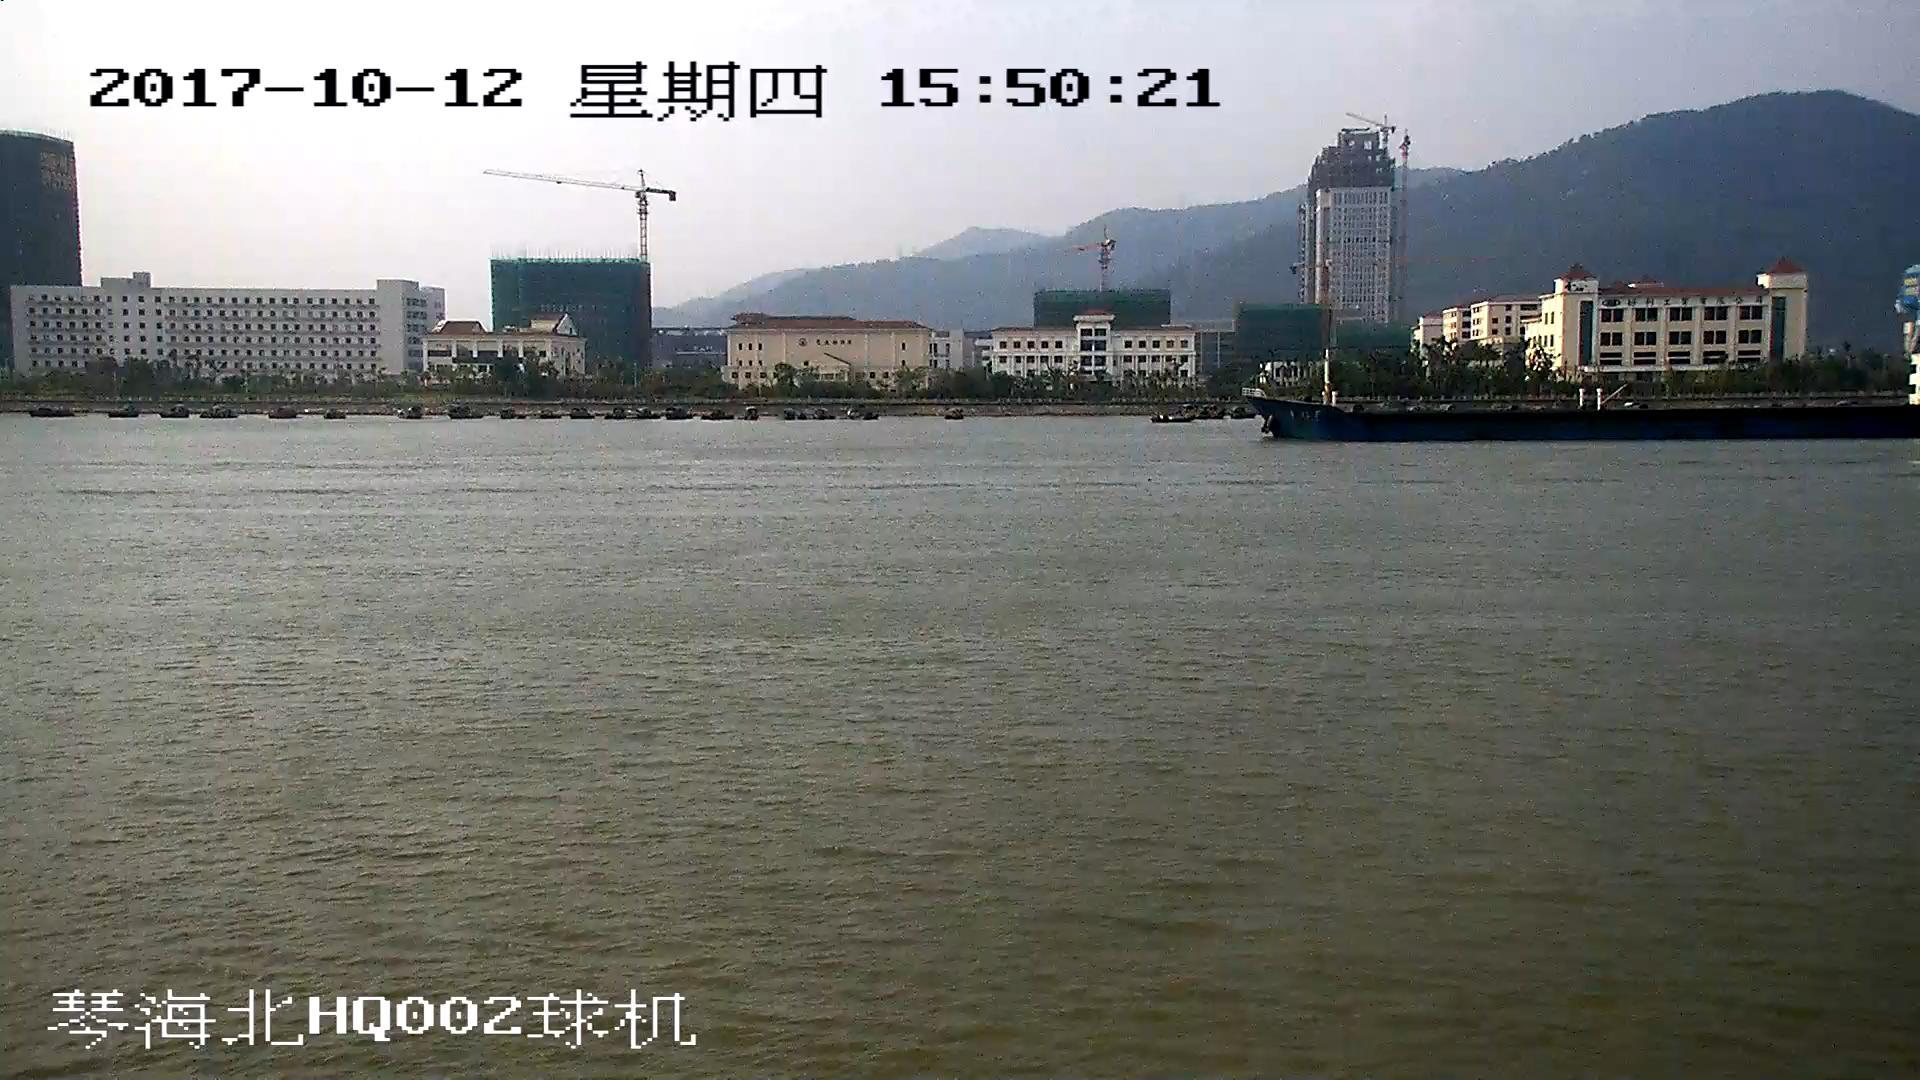Ship: (1244, 351, 1920, 444)
